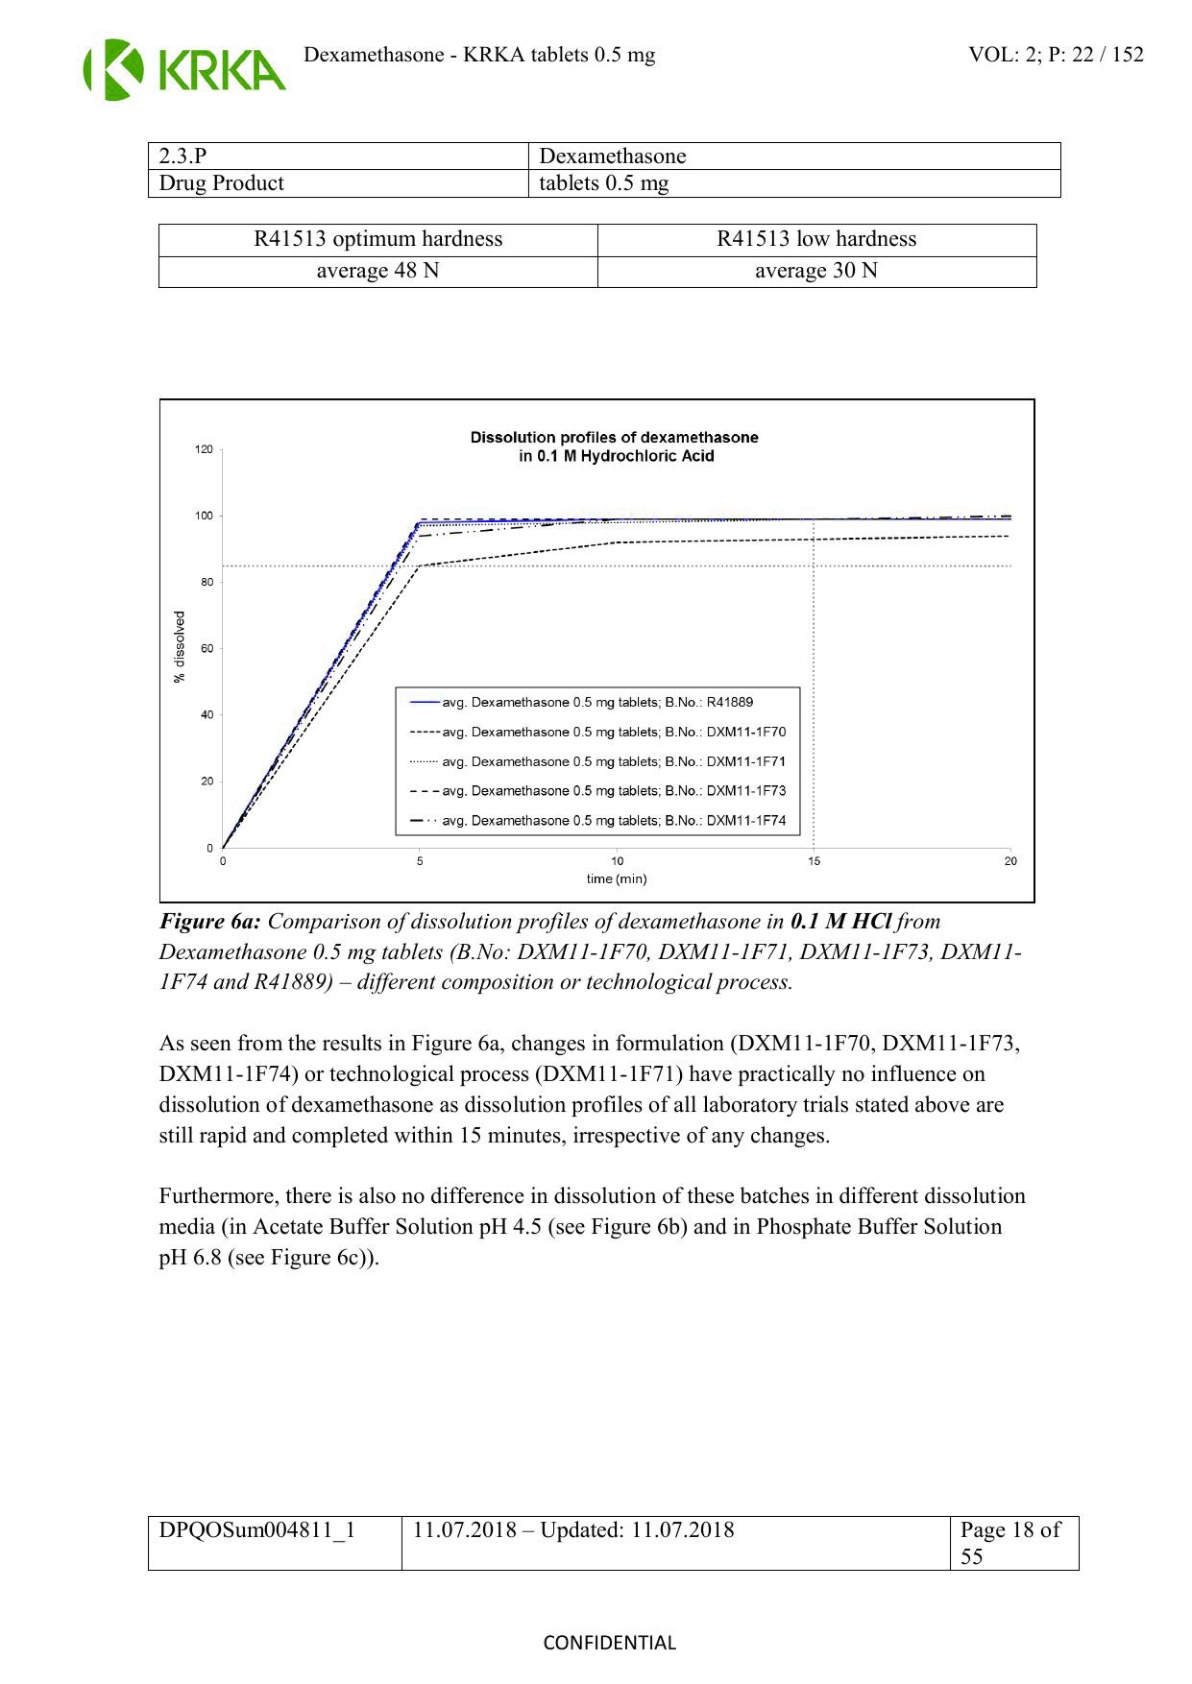full_lined: (157, 223, 1038, 289), (146, 1514, 1080, 1572), (147, 141, 1062, 199)
